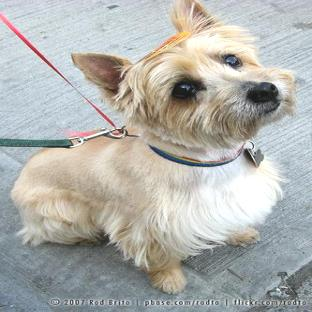Animal: (11, 0, 295, 293)
